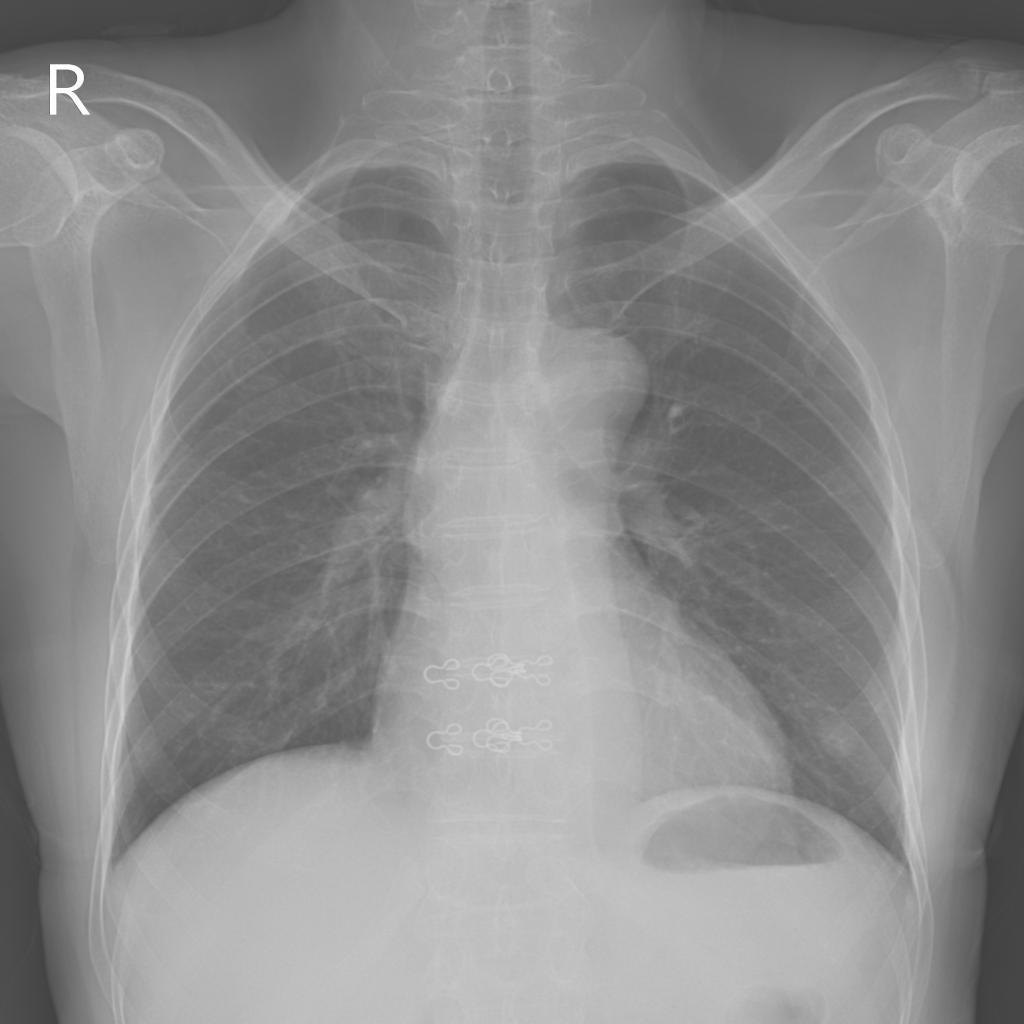Nodule: (820, 720, 858, 757)
